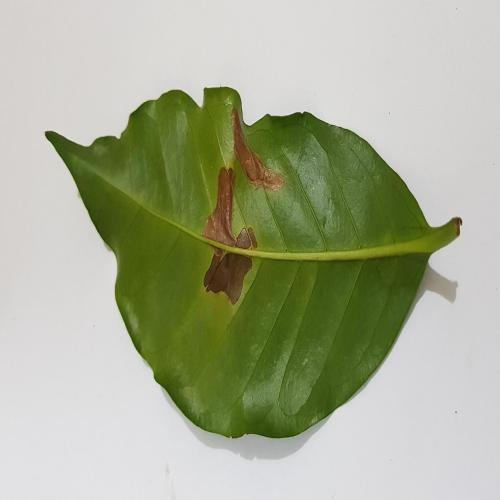leaf: (232, 109, 283, 189)
